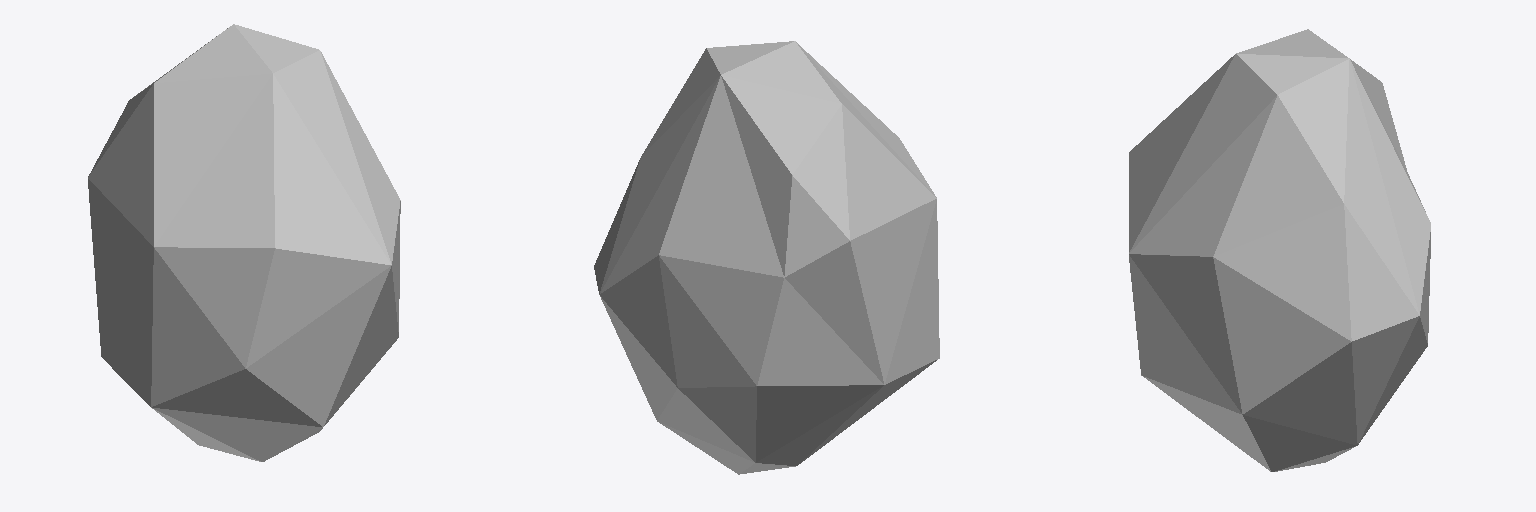
The model's file is rock2.obj.
3 views of the same model, side by side, from view 1: azimuth 30°, elevation 25°; view 2: azimuth 150°, elevation 25°; view 3: azimuth 270°, elevation 25° (orthographic).
Parts seen in each view (by area): view 1: Low_Poly_Rock_Big_001_Icosphere.002; view 2: Low_Poly_Rock_Big_001_Icosphere.002; view 3: Low_Poly_Rock_Big_001_Icosphere.002.
Boxes of the visible parts, box(x1,y1,x2,y2) form: Low_Poly_Rock_Big_001_Icosphere.002: box(88, 24, 400, 461); Low_Poly_Rock_Big_001_Icosphere.002: box(594, 41, 939, 474); Low_Poly_Rock_Big_001_Icosphere.002: box(1129, 29, 1430, 471).
Bounding box in the file's own units: 3.27 × 4.59 × 3.1.